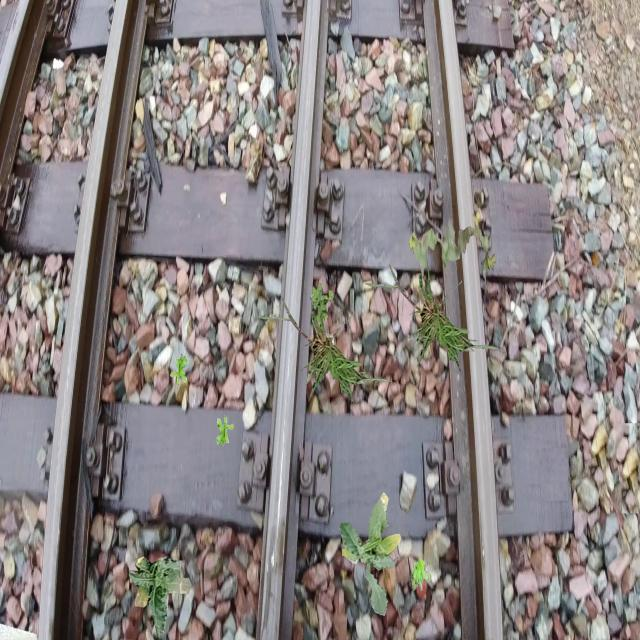Plant: (365, 253, 508, 372), (257, 285, 400, 404), (339, 492, 402, 616), (409, 210, 496, 278), (129, 557, 192, 640), (310, 283, 334, 324), (411, 558, 432, 591), (170, 354, 188, 386), (217, 416, 234, 448)
